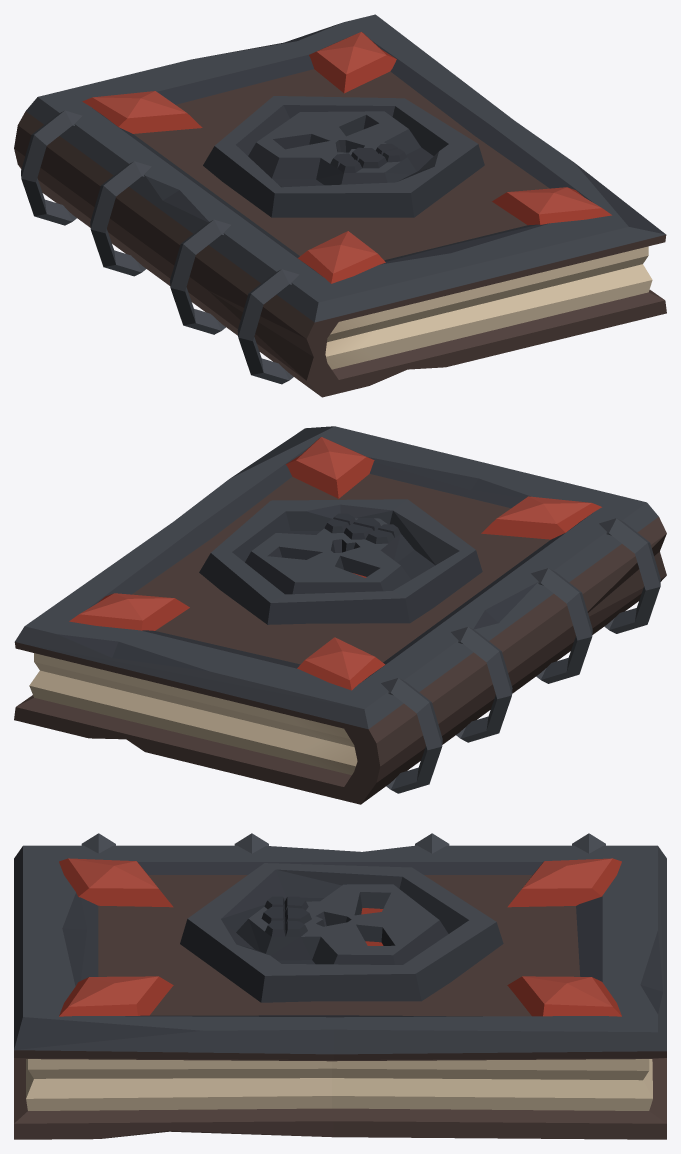
The model's file is SM_Prop_Book_03.fbx.
3 views of the same model, one above another, from view 1: azimuth 30°, elevation 25°; view 2: azimuth 150°, elevation 25°; view 3: azimuth 270°, elevation 25° (orthographic). The views are drawn at different scales.
Visible parts, largest first — view 1: SM_Prop_Book_03; view 2: SM_Prop_Book_03; view 3: SM_Prop_Book_03.
Part boxes in pixels (x1,y1,x2,y2): SM_Prop_Book_03: (14,14,666,397); SM_Prop_Book_03: (14,426,666,804); SM_Prop_Book_03: (14,833,666,1139).
Bounding box in the file's own units: 38.78 × 12.1 × 49.58.
